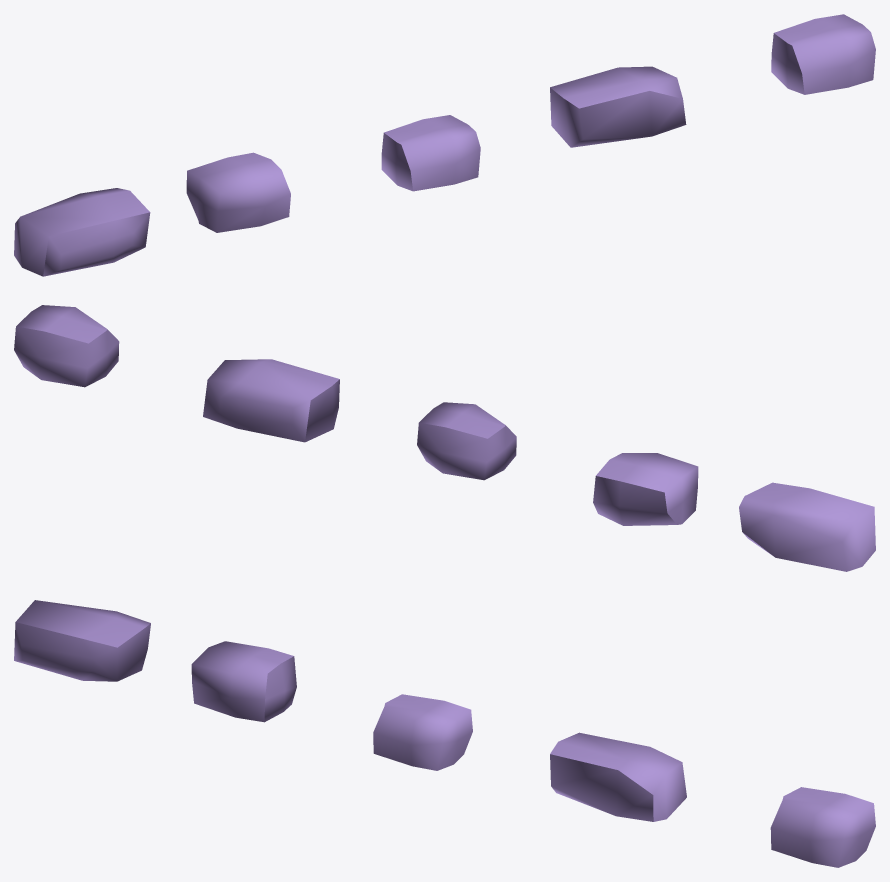
The model's file is stone_row_b.fbx.
3 views of the same model, one above another, from view 1: azimuth 30°, elevation 25°; view 2: azimuth 150°, elevation 25°; view 3: azimuth 330°, elevation 25° (orthographic).
Parts seen in each view (by area): view 1: Cube.127; view 2: Cube.127; view 3: Cube.127.
Boxes of the visible parts, <box> form: Cube.127: <box>14,14,875,276</box>; Cube.127: <box>14,305,875,571</box>; Cube.127: <box>14,600,875,867</box>.
Size of the model in its own units: 7.15 by 0.4212 by 0.6727.
